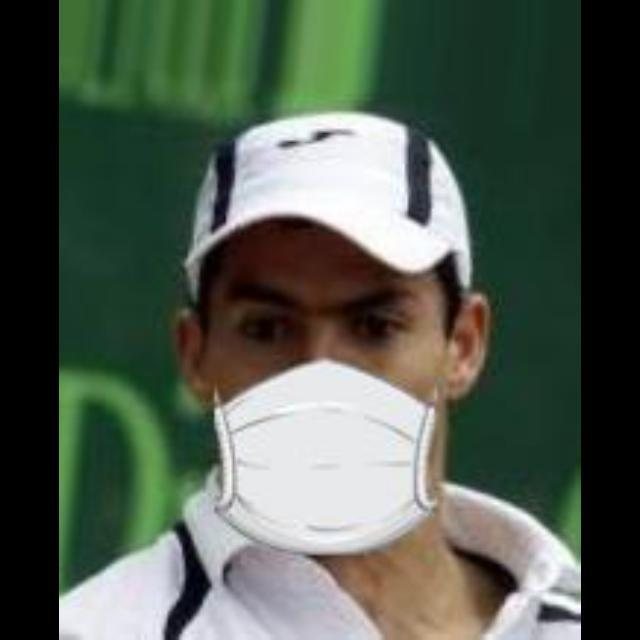suspicion: (157, 167, 477, 578)
